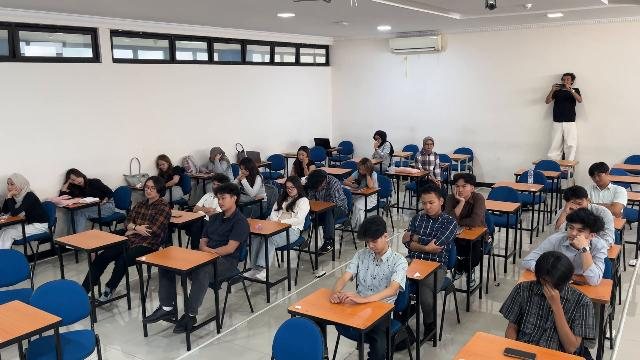bosan: (566, 224, 589, 242), (421, 195, 439, 216), (365, 237, 382, 252), (455, 182, 470, 198), (145, 180, 157, 198), (217, 193, 229, 210), (568, 200, 586, 211), (592, 173, 607, 185), (69, 173, 83, 184), (7, 178, 17, 192), (286, 182, 296, 196), (158, 159, 168, 171), (240, 165, 249, 176), (298, 151, 307, 161), (359, 165, 365, 175)
